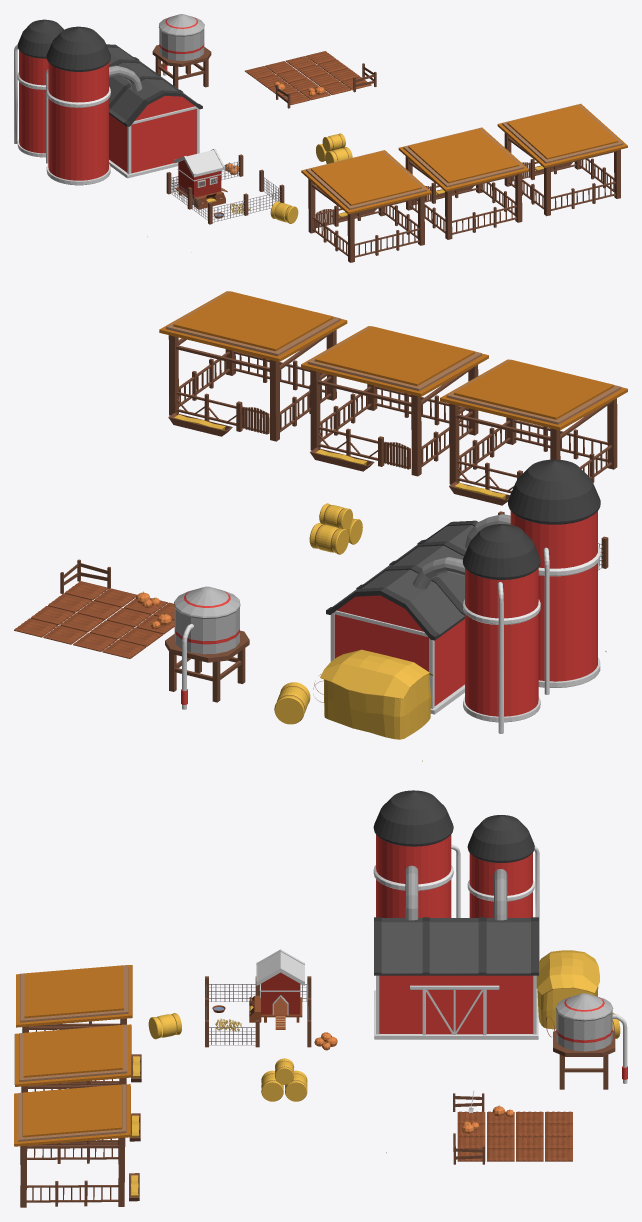
Rendered from farm.glb.
The picture shows the model from 3 angles, top to bottom: view 1: azimuth 30°, elevation 25°; view 2: azimuth 150°, elevation 25°; view 3: azimuth 270°, elevation 25°; orthographic projection. The views are drawn at different scales.
Visible parts, largest first — view 1: Plane.004 (×3), Torus.004, Cube.039, Cube.003, Plane.003, Plane.002, Plane.001, Cylinder.005; view 2: Torus.004, Plane.004 (×3), Cube, Cube.003, Plane.003, Plane.002, Cylinder.004, Cylinder.001, Cylinder.002; view 3: Torus.004, Plane.004 (×3), Cube.039, Cube.003, Cube, Plane.003, Plane.002, Plane.001, Cylinder.005.
Boxes of the visible parts, x1,y1,x2,y2 form: Plane.004 (×3): (301, 103, 627, 262); Torus.004: (14, 19, 202, 185); Cube.039: (166, 148, 284, 224); Cube.003: (152, 14, 211, 88); Plane.003: (286, 51, 371, 94); Plane.002: (245, 61, 330, 104); Plane.001: (170, 161, 280, 222); Cylinder.005: (270, 201, 298, 223); Torus.004: (326, 459, 600, 733); Plane.004 (×3): (159, 291, 627, 505); Cube: (320, 649, 432, 739); Cube.003: (165, 586, 249, 702); Plane.003: (14, 581, 136, 644); Plane.002: (73, 598, 174, 658); Cylinder.004: (274, 682, 310, 724); Cylinder.001: (309, 523, 348, 554); Cylinder.002: (319, 503, 352, 529); Torus.004: (373, 790, 539, 1039); Plane.004 (×3): (14, 965, 141, 1207); Cube.039: (205, 949, 311, 1047); Cube.003: (553, 993, 615, 1089); Cube: (536, 950, 599, 1029); Plane.003: (457, 1136, 572, 1161); Plane.002: (457, 1111, 572, 1136); Plane.001: (206, 984, 308, 1045); Cylinder.005: (148, 1013, 554, 1039).
Bounding box in the file's own units: 9.67 × 5.36 × 9.96.
